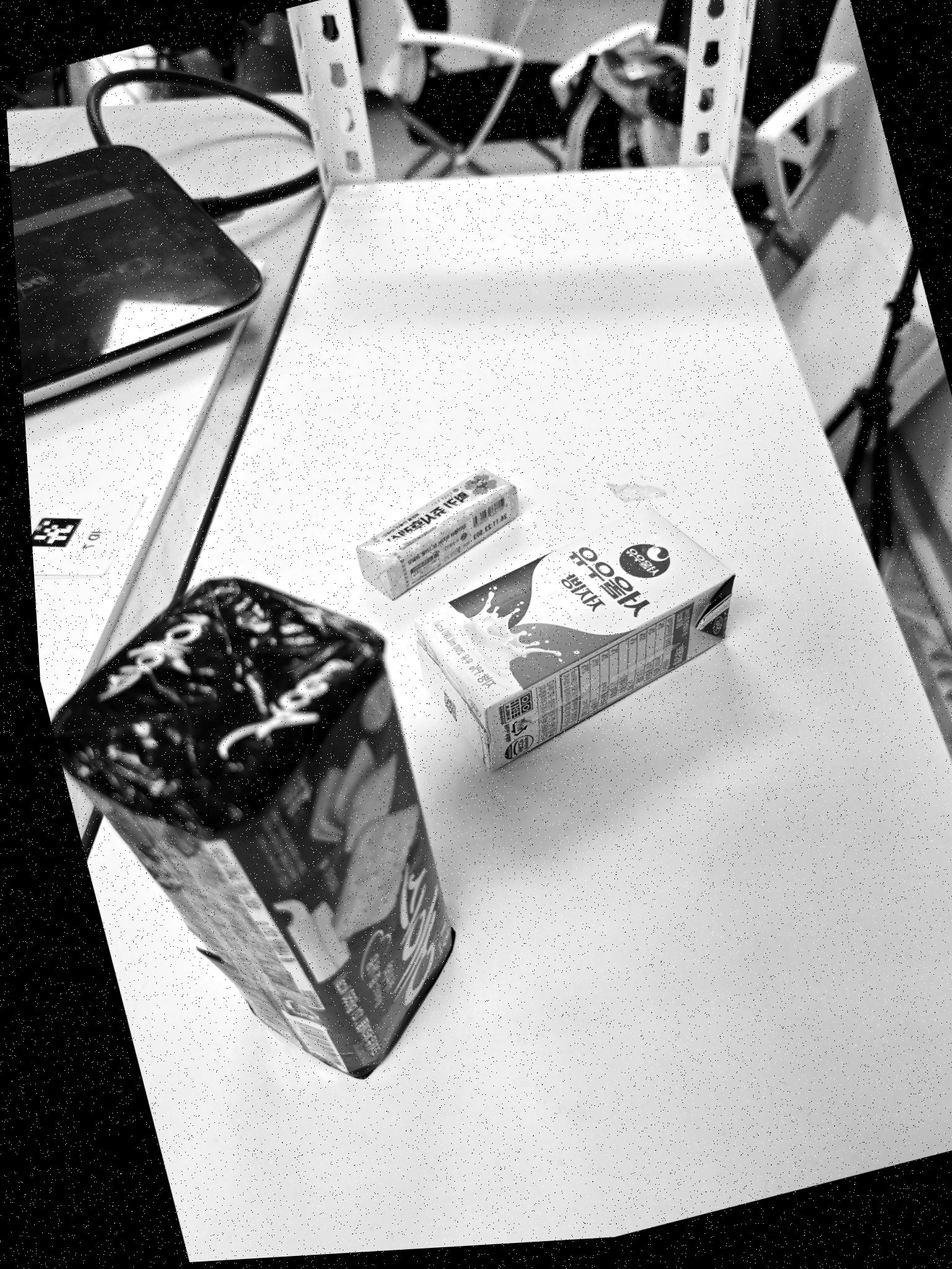cracker_ace: (51, 578, 454, 1078)
gum_yellow: (357, 469, 519, 599)
milk_blue: (415, 506, 734, 770)
